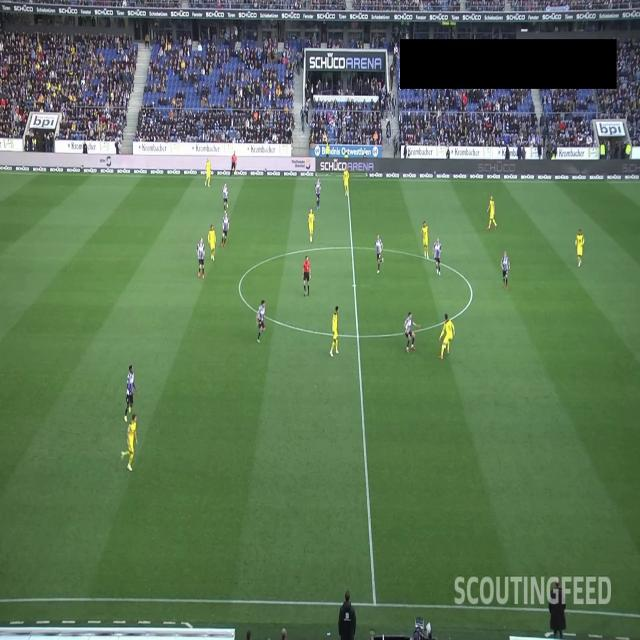ball: (444, 344, 446, 349)
team1: (120, 414, 138, 472), (440, 313, 454, 360), (330, 306, 340, 358), (486, 195, 498, 231), (420, 222, 430, 261), (575, 228, 585, 266), (208, 224, 218, 261), (306, 207, 316, 243), (204, 159, 212, 189), (343, 168, 350, 196)
team2: (124, 365, 137, 423), (404, 312, 421, 354), (255, 298, 266, 344), (375, 233, 385, 274), (432, 237, 442, 277), (500, 251, 510, 290), (197, 238, 206, 278), (220, 212, 230, 248), (314, 178, 322, 209), (222, 182, 229, 212)
